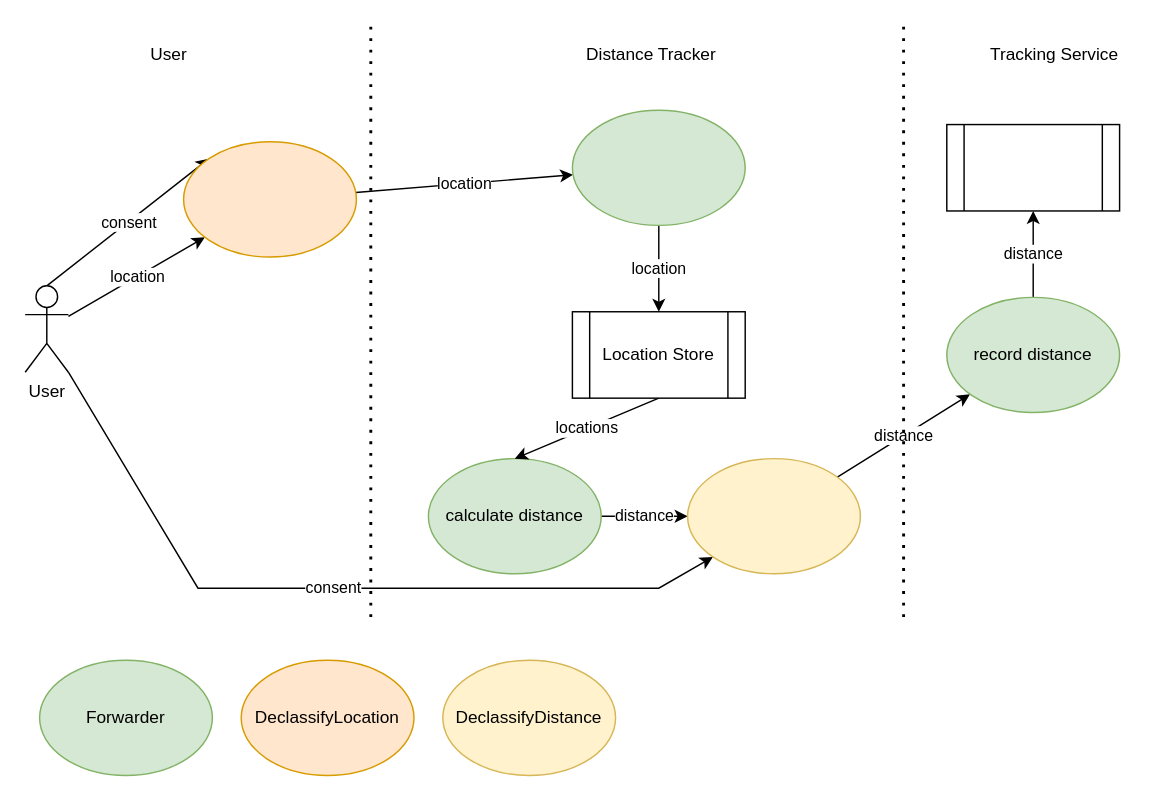
Some shapes in this 1159 by 801 pixel diagram are drawn without their labels. Here are the shapes that lost their labels. From the top down, the centre of each, then its label:
At [658,167]: "record location".
At [1032,167]: "Distance Store".
At [269,198]: "confirm location".
At [773,515]: "confirm distance".
